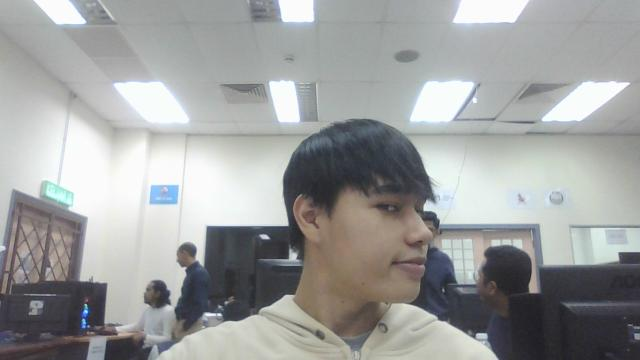senang: (276, 107, 434, 312)
